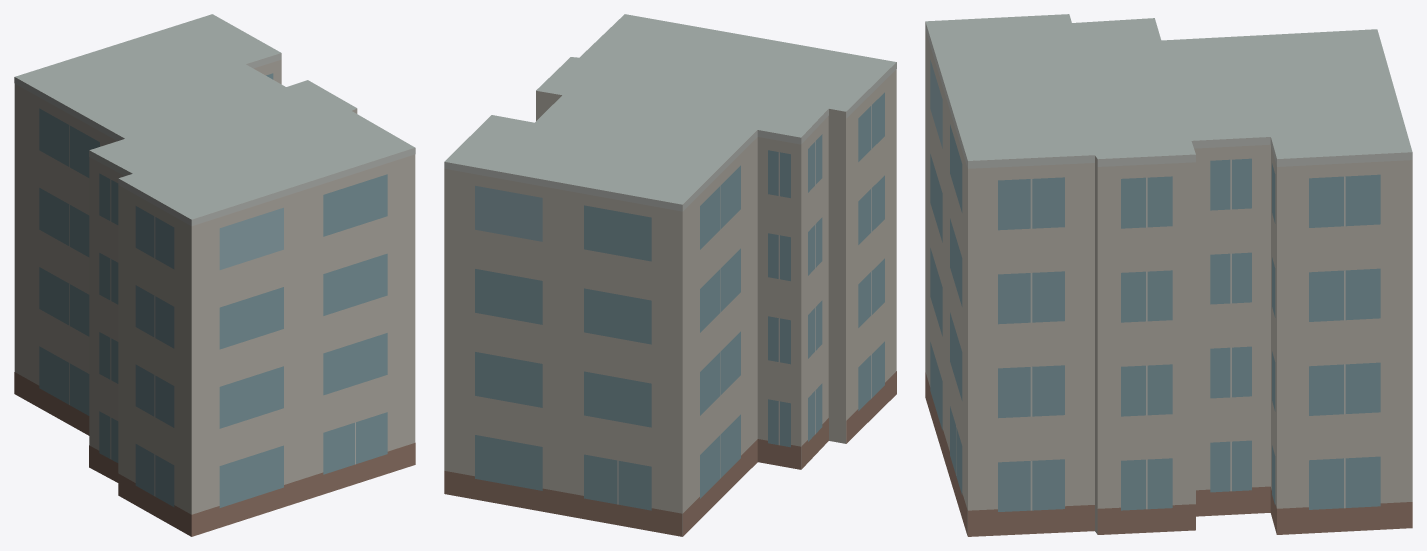
File: survey-upis-32985430.glb
3 views of the same model, side by side, from view 1: azimuth 30°, elevation 25°; view 2: azimuth 150°, elevation 25°; view 3: azimuth 270°, elevation 25° (orthographic). The views are drawn at different scales.
Visible parts, largest first — view 1: survey-upis-32985430.tmp; view 2: survey-upis-32985430.tmp; view 3: survey-upis-32985430.tmp.
Part boxes in pixels (bbox=[...]): survey-upis-32985430.tmp: bbox=[14, 14, 415, 536]; survey-upis-32985430.tmp: bbox=[444, 14, 896, 536]; survey-upis-32985430.tmp: bbox=[925, 14, 1412, 536].
Size of the model in its own units: 9.82 by 11.7 by 13.76.
